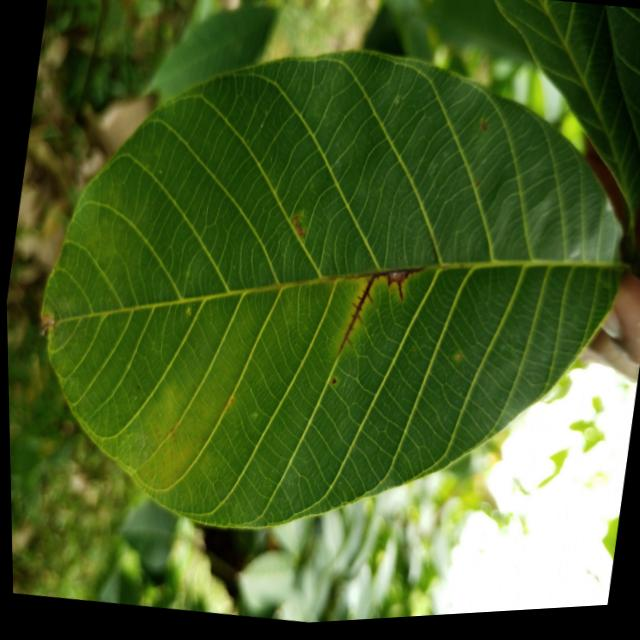Colletotrichum: (329, 381, 334, 389)
Corynespora: (333, 275, 378, 364), (366, 263, 420, 310)
